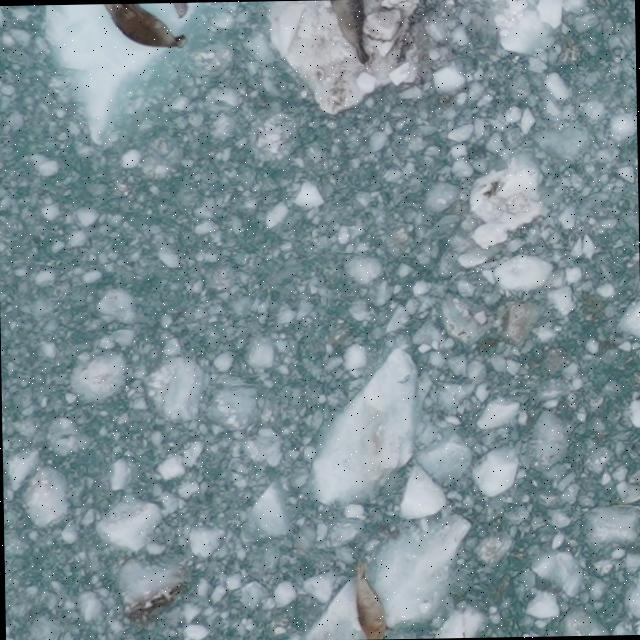seal: (99, 4, 190, 50), (350, 558, 395, 640), (325, 0, 374, 68)
